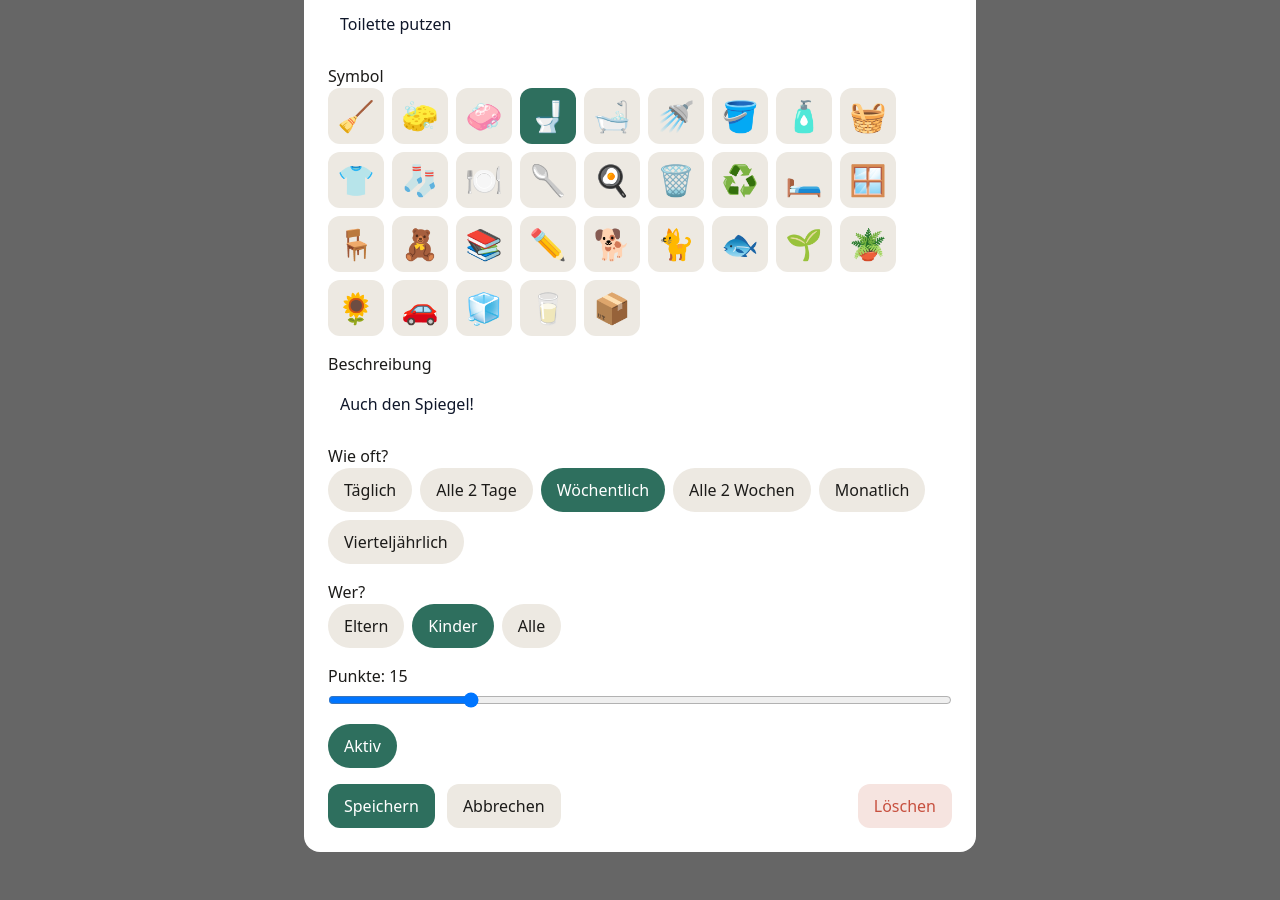
ChoreDialog — Bearbeiten › meldet ein sonstiges Loeschversagen ohne Pausier-Hinweis
(page scrolled)
Click the button "Löschen". click: (905, 806)
box: x1=858 y1=784 x2=952 y2=828
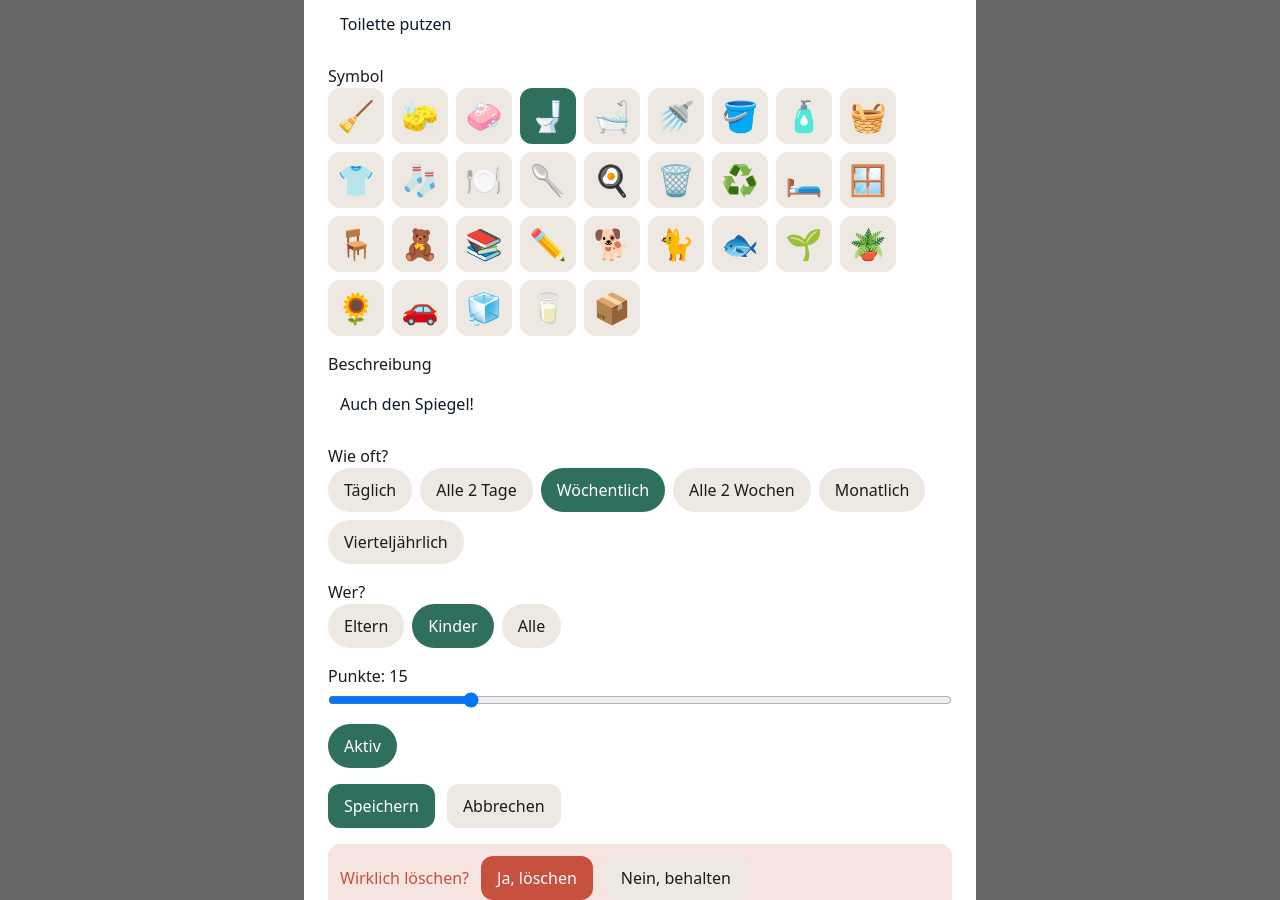
Click the button "Ja, löschen". click: (537, 878)
box: x1=481 y1=856 x2=593 y2=899
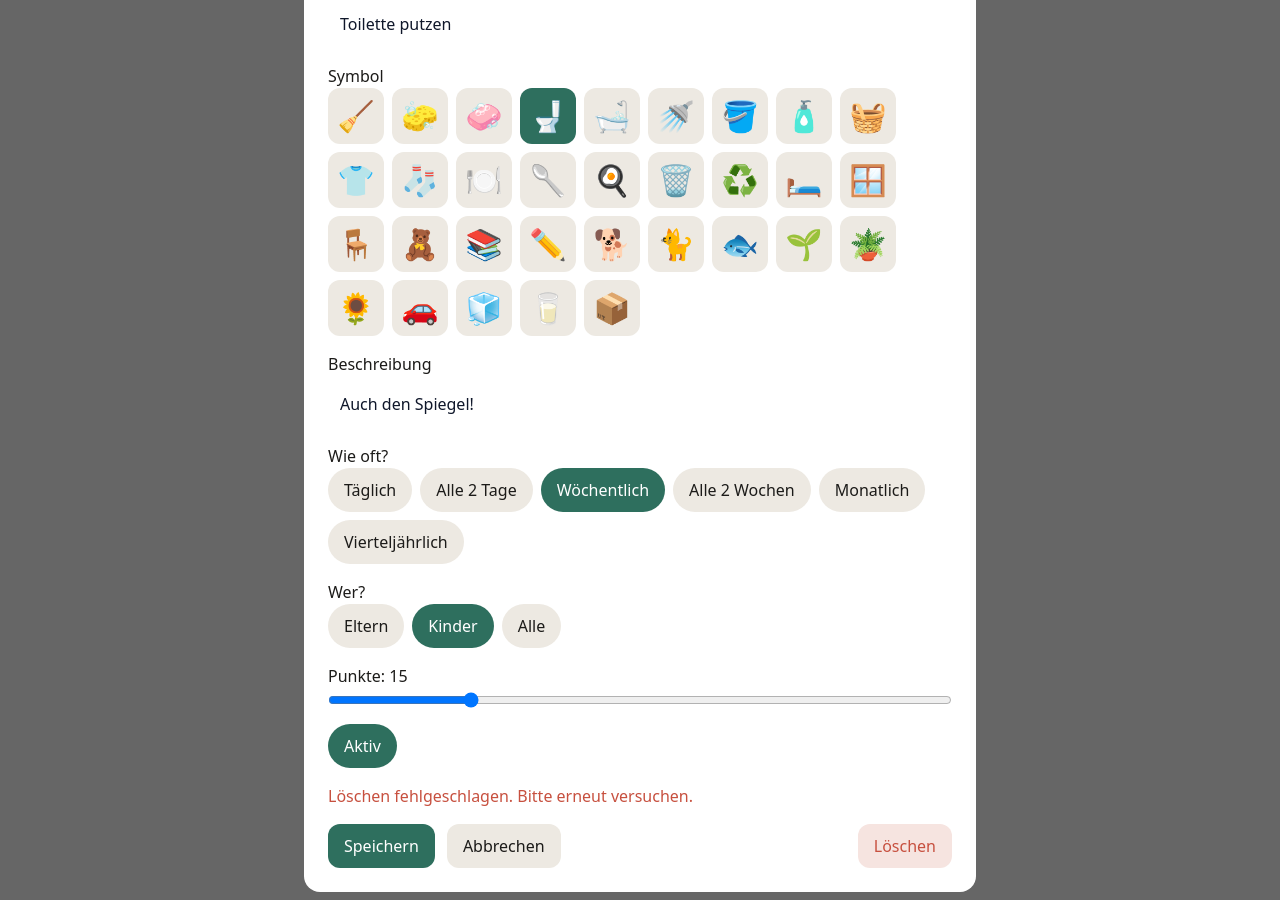
Expected: the text "Löschen fehlgeschlagen. Bitte erneut versuchen." is shown, x1=328 y1=785 x2=693 y2=807
Expected: the text "Wirklich löschen?" is gone
